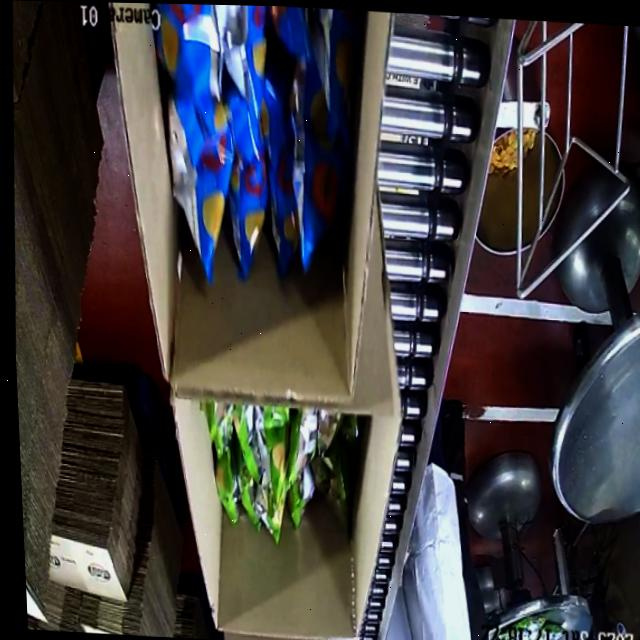PAPRIKA: (146, 3, 362, 296)
